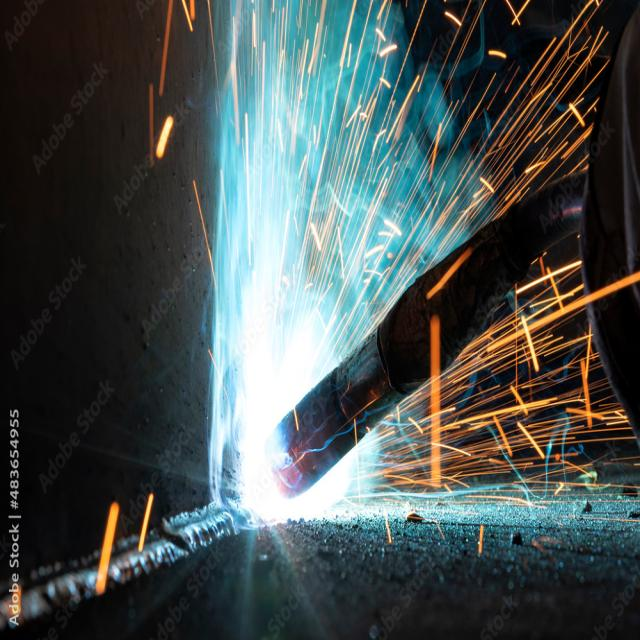welding: (240, 306, 382, 512)
